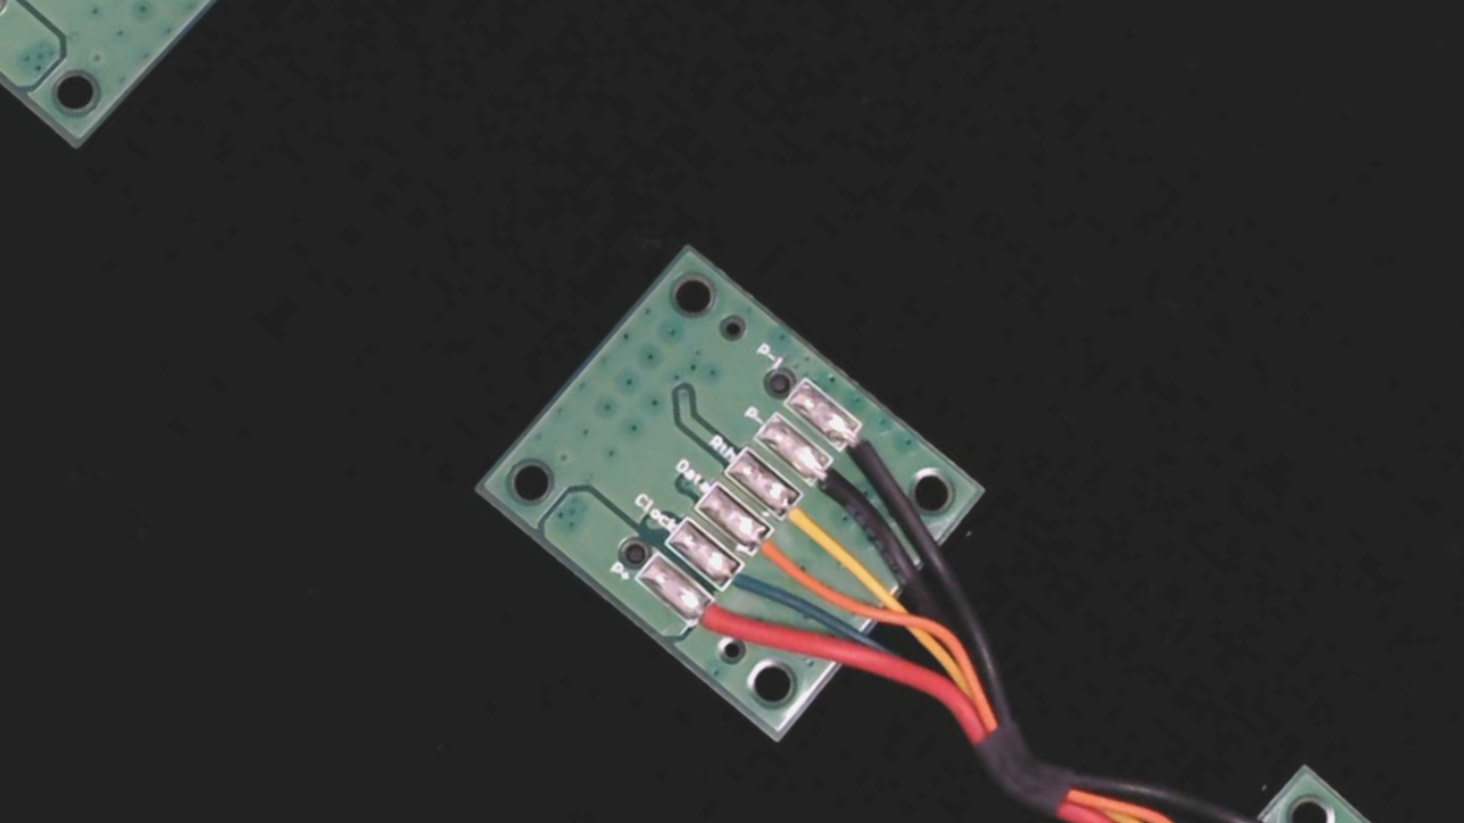Black: (792, 443, 884, 530)
Black1: (825, 409, 910, 490)
Green: (702, 550, 777, 621)
Orange: (736, 517, 823, 599)
Red: (674, 582, 764, 668)
Yellow: (763, 479, 857, 568)
